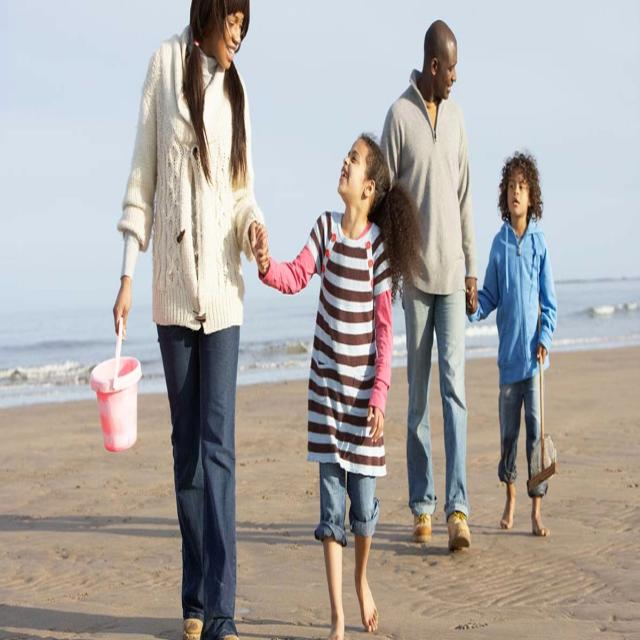adult: (113, 0, 268, 640), (378, 19, 478, 554)
child: (256, 133, 421, 640), (464, 154, 558, 538)
